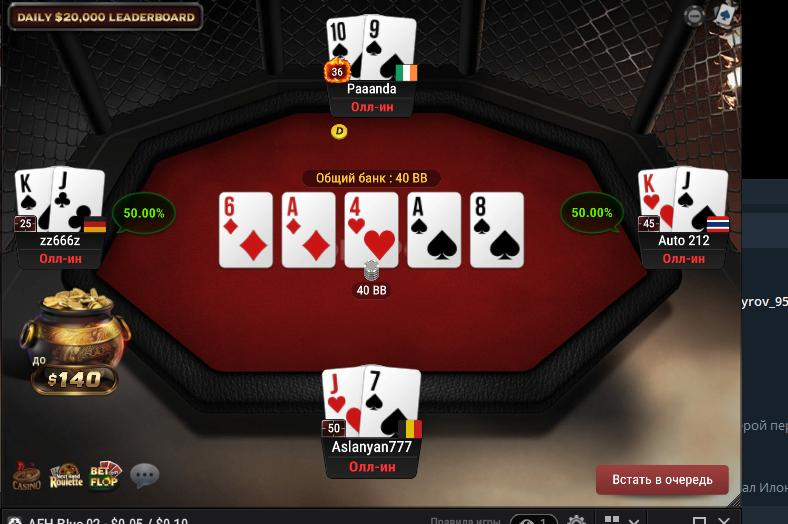10s: (326, 19, 364, 81)
4h: (346, 194, 396, 266)
6d: (219, 194, 272, 267)
7s: (363, 366, 419, 439)
8s: (471, 194, 522, 267)
9s: (363, 14, 415, 81)
Ad: (283, 194, 334, 267)
As: (408, 192, 460, 266)
Jc: (51, 165, 104, 232)
Jh: (322, 369, 362, 436)
Js: (675, 166, 727, 230)
Kh: (639, 169, 674, 232)
Ks: (14, 168, 53, 232)
